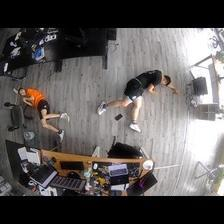fall: (101, 72, 178, 133), (15, 87, 68, 140)
